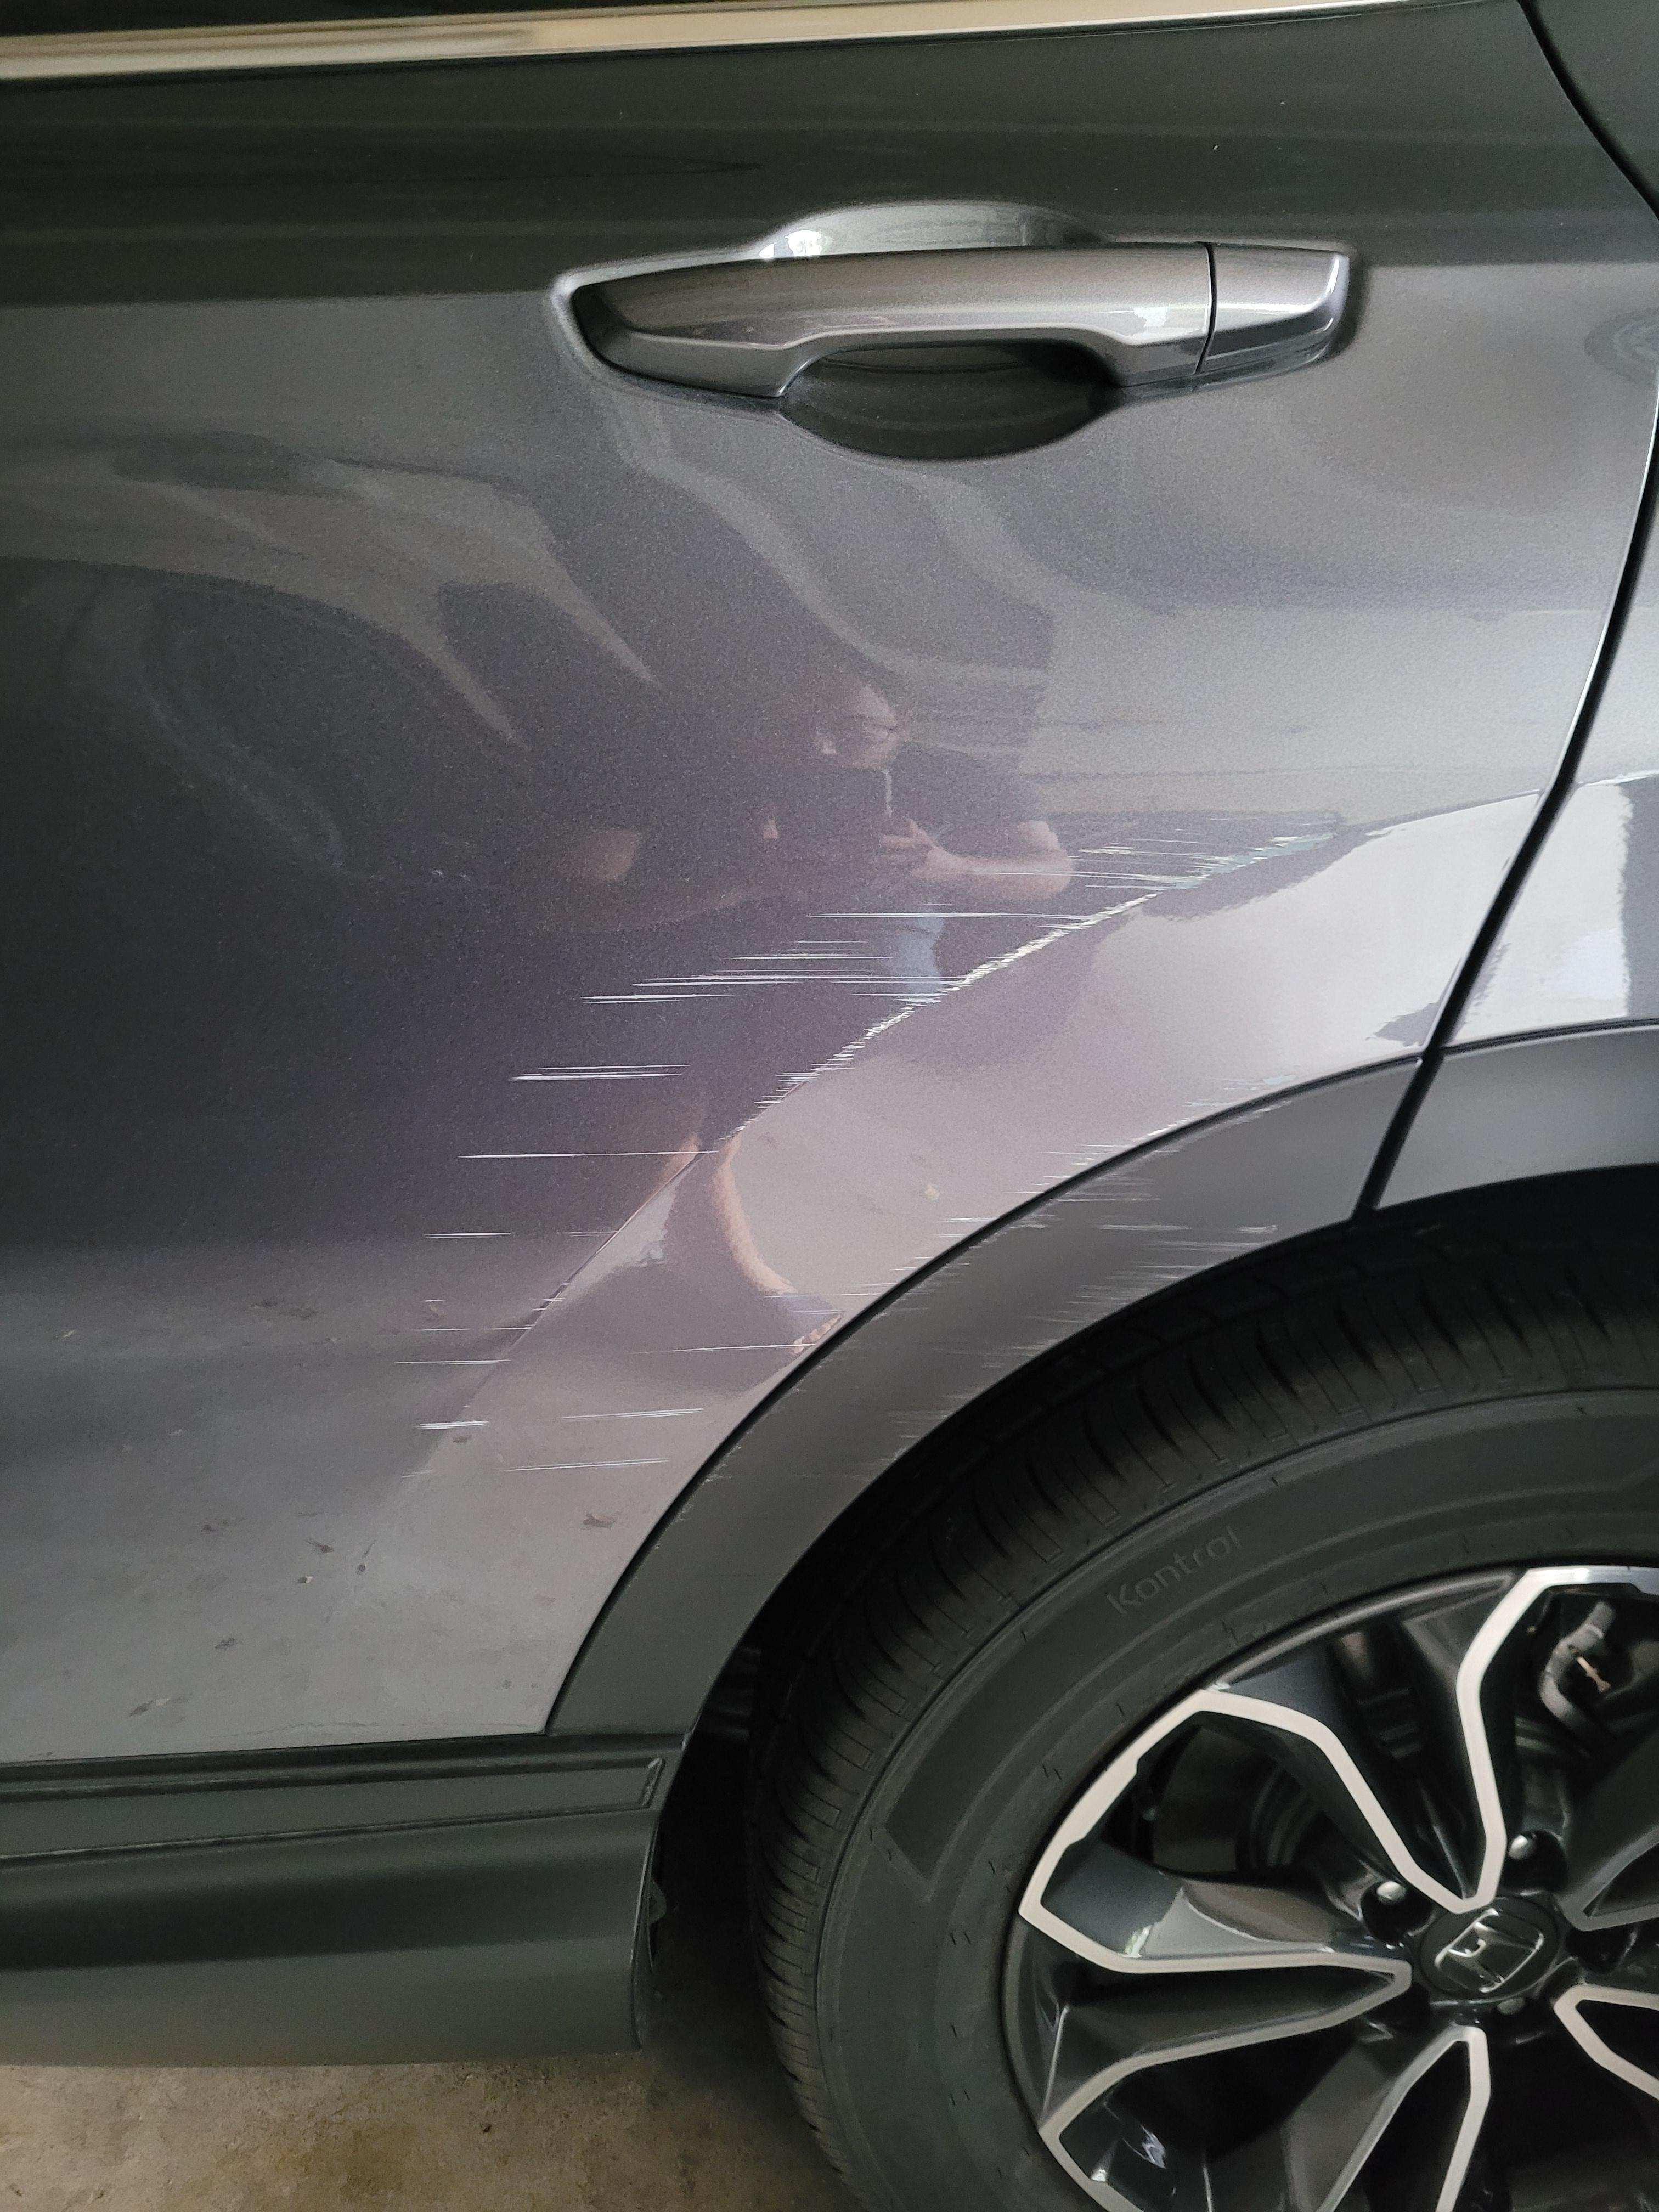scratch: (281, 791, 1476, 1514)
